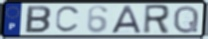6: (86, 5, 110, 35)
A: (111, 4, 143, 34)
B: (24, 5, 53, 34)
C: (54, 5, 83, 35)
Q: (172, 4, 201, 35)
R: (141, 4, 171, 36)
